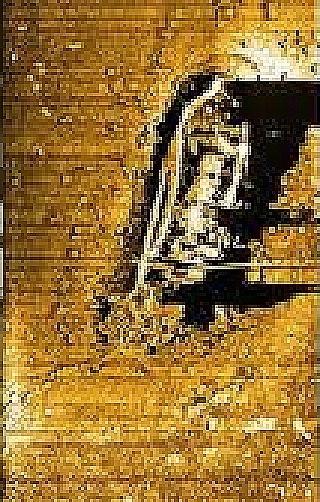ship: (125, 75, 253, 329)
